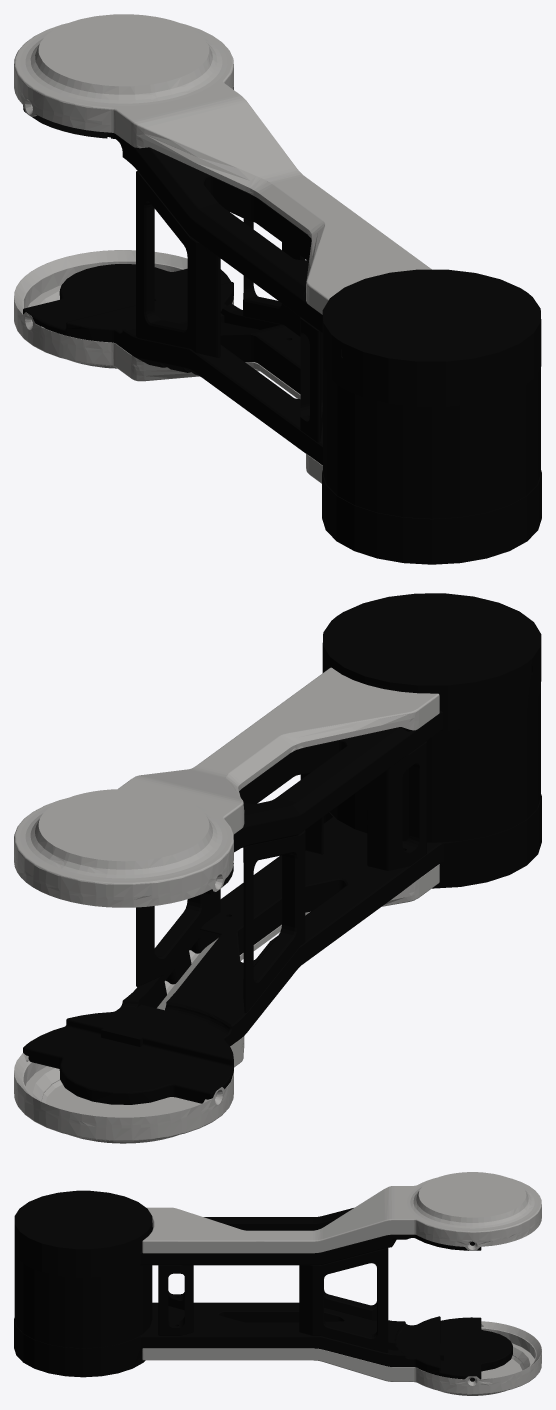
The model's file is torso_link1.obj.
3 views of the same model, one above another, from view 1: azimuth 30°, elevation 25°; view 2: azimuth 150°, elevation 25°; view 3: azimuth 270°, elevation 25° (orthographic). The views are drawn at different scales.
Visible parts, largest first — view 1: torso_link1; view 2: torso_link1; view 3: torso_link1.
Boxes of the visible parts, <box> form: torso_link1: <box>14,14,541,564</box>; torso_link1: <box>14,593,541,1143</box>; torso_link1: <box>14,1172,541,1395</box>.
Size of the model in its own units: 0.125 by 0.177 by 0.475.
